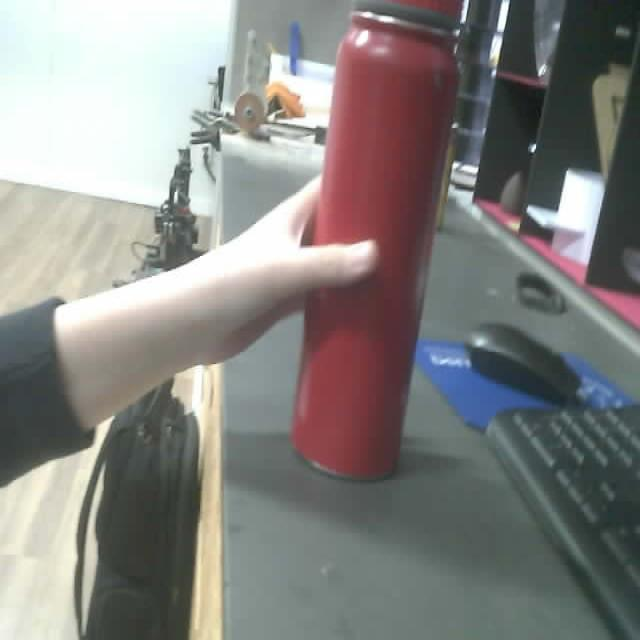water bottle: (289, 0, 471, 481)
